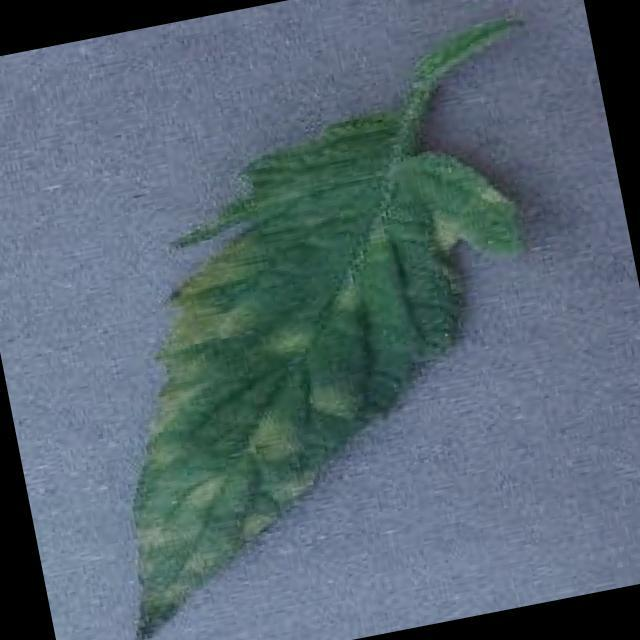Tomato mold leaf: (47, 87, 587, 640)
